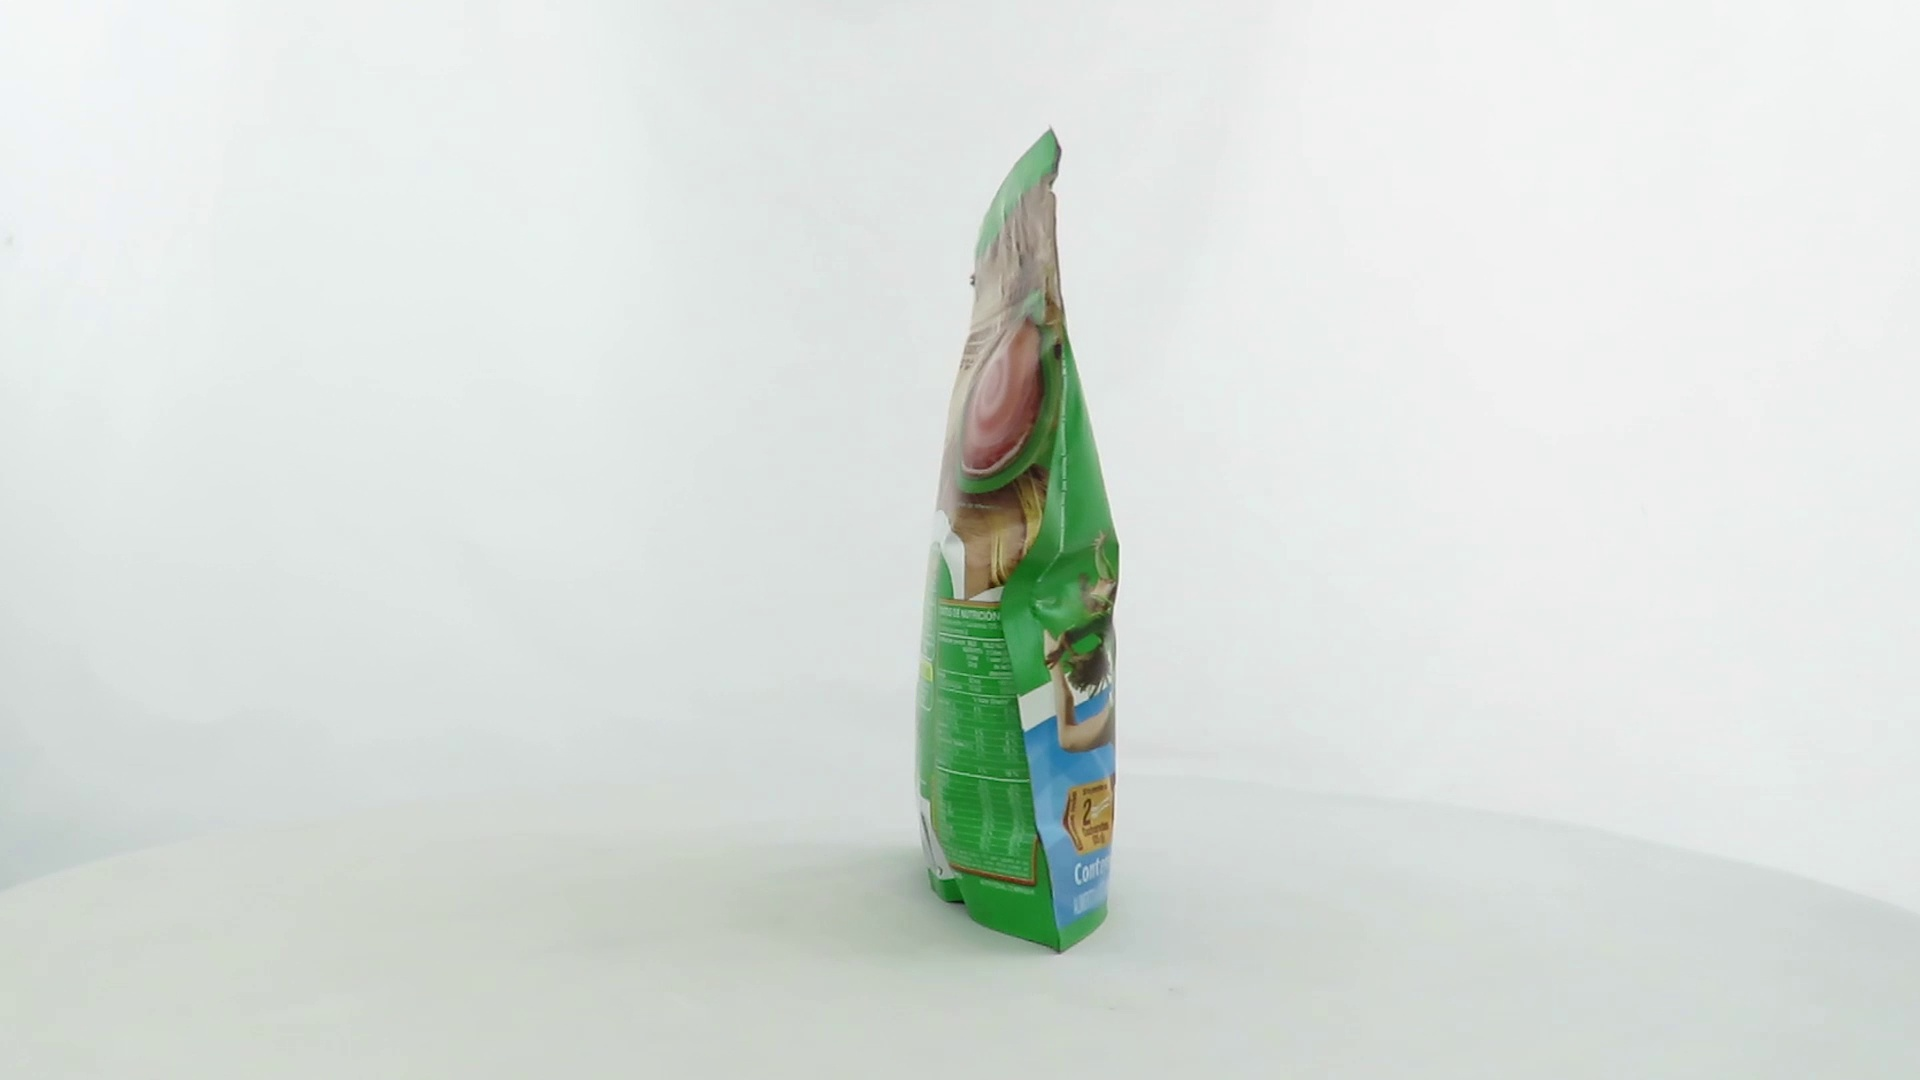COL0170205DYP20000: (909, 119, 1126, 963)
